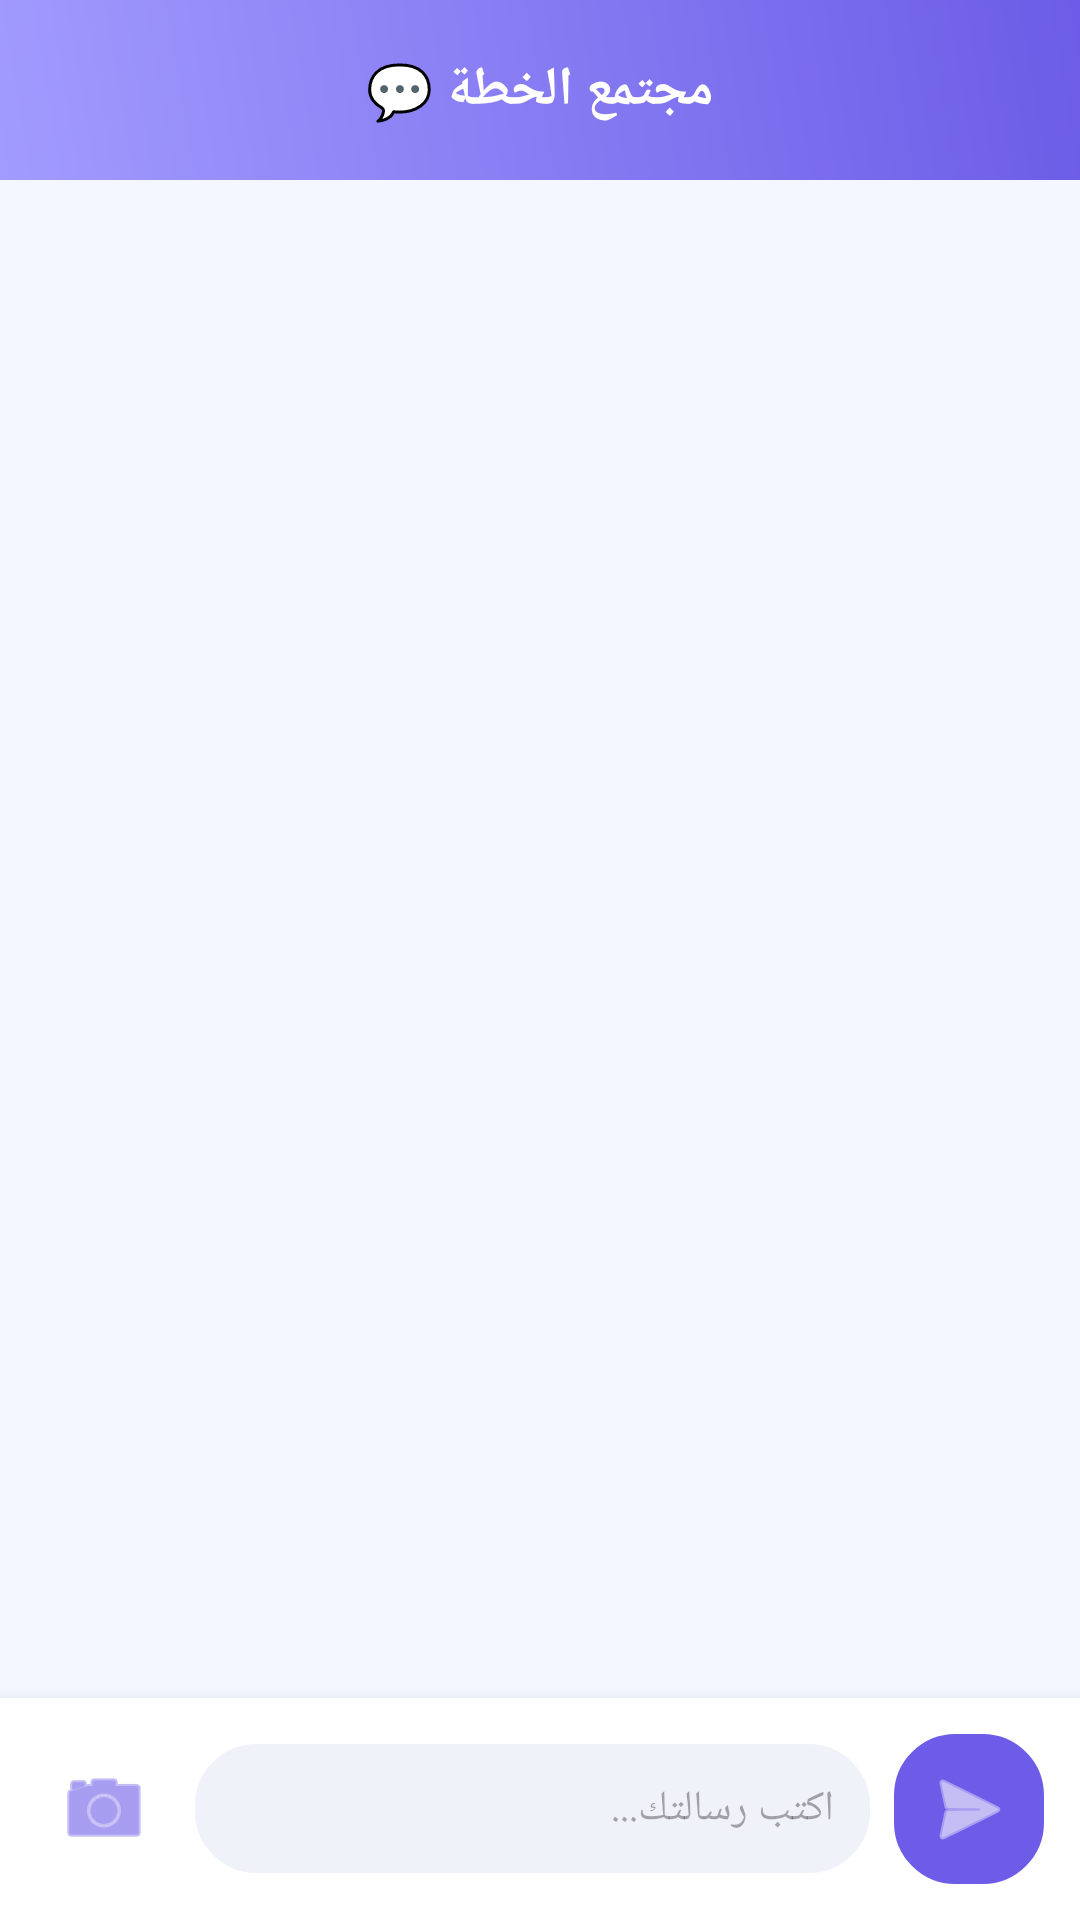

Icon bounding boxes for this 1080 × 1920 phone screenshot, format BBox(x1, y1, x2, y2):
camera: BBox(67, 1778, 141, 1837)
send: BBox(894, 1734, 1044, 1884)
